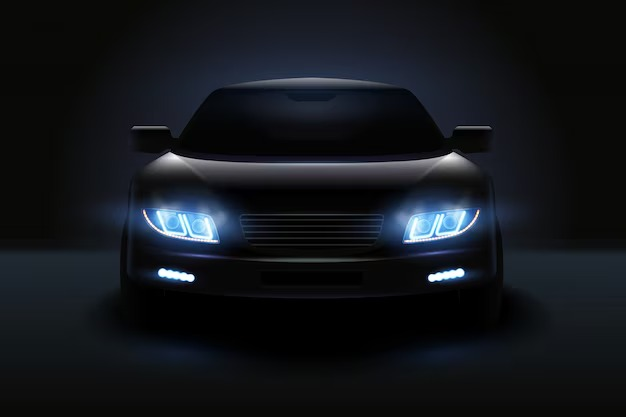car: (93, 73, 492, 335)
